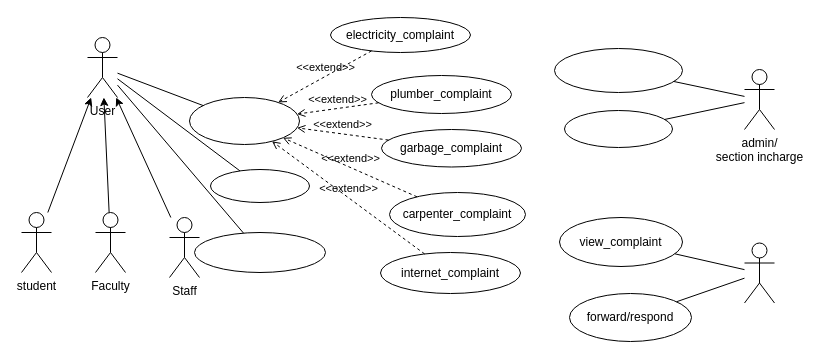
Image size: 820x359. Some labels were removed from this diagram. Here are the shapes that lost their labels. From the top down, the centre of each, then its label:
the point at 618,70: respond_to_complaint
the point at 244,120: lodge_complaint
the point at 618,129: change_Status
the point at 260,185: track_Status
the point at 260,252: give_feedback*
the point at 759,272: caretaker
